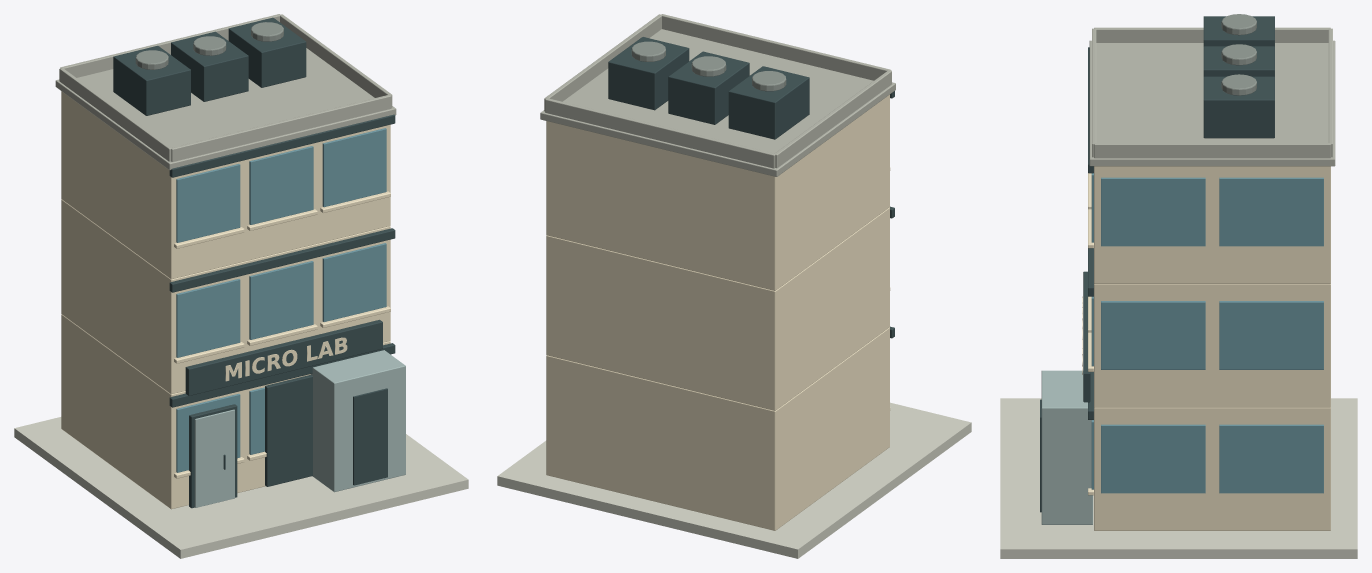
The model's file is medium-2x2-electronics-02.glb.
The picture shows the model from 3 angles, left to right: view 1: azimuth 30°, elevation 25°; view 2: azimuth 150°, elevation 25°; view 3: azimuth 270°, elevation 25°; orthographic projection. The views are drawn at different scales.
Parts seen in each view (by area): view 1: ProductionFloor_03, LotPlinth, ProductionFloor_02, ProductionFloor_01, RoofCap, CleanRoomAirlock, ElectronicsSignBacking, LoadingDoor, FrontWindow_03.002, FrontWindow_02, FrontWindow_02.001, FrontWindow_02.002 (+21 smaller); view 2: ProductionFloor_02, ProductionFloor_01, ProductionFloor_03, LotPlinth, RoofCap, RooftopAirPlant, RoofParapet.001, RooftopAirPlant.001, RooftopAirPlant.002, RoofParapet, RoofParapet.002, RoofParapet.003 (+3 smaller); view 3: RoofCap, LotPlinth, ProductionFloor_01, ProductionFloor_02, ProductionFloor_03, CleanRoomAirlock, SideWindow_01, SideWindow_01.001, SideWindow_03, SideWindow_03.001, SideWindow_02, SideWindow_02.001 (+11 smaller).
Boxes of the visible parts, box(x1,y1,x2,y2) form: ProductionFloor_03: box(61, 91, 390, 279); LotPlinth: box(14, 417, 468, 558); ProductionFloor_02: box(61, 199, 390, 394); ProductionFloor_01: box(61, 314, 390, 509); RoofCap: box(55, 48, 396, 170); CleanRoomAirlock: box(310, 350, 405, 492); ElectronicsSignBacking: box(185, 319, 382, 395); LoadingDoor: box(265, 374, 312, 486); FrontWindow_03.002: box(322, 128, 386, 207); FrontWindow_02: box(176, 279, 240, 357); FrontWindow_02.001: box(249, 261, 313, 339); FrontWindow_02.002: box(322, 243, 386, 321); ProductionFloor_02: box(546, 207, 889, 410); ProductionFloor_01: box(546, 327, 889, 530); ProductionFloor_03: box(546, 94, 889, 290); LotPlinth: box(497, 402, 971, 558); RoofCap: box(540, 29, 895, 176); RooftopAirPlant: box(728, 66, 809, 139); RoofParapet.001: box(545, 98, 775, 168); RooftopAirPlant.001: box(668, 51, 749, 124); RooftopAirPlant.002: box(608, 37, 689, 110); RoofParapet: box(661, 14, 891, 80); RoofParapet.002: box(775, 70, 891, 168); RoofParapet.003: box(544, 14, 661, 111); RoofCap: box(1089, 40, 1335, 166); LotPlinth: box(1000, 398, 1357, 558); ProductionFloor_01: box(1094, 407, 1330, 530); ProductionFloor_02: box(1094, 284, 1330, 407); ProductionFloor_03: box(1094, 166, 1330, 284); CleanRoomAirlock: box(1041, 370, 1092, 524); SideWindow_01: box(1101, 424, 1205, 493); SideWindow_01.001: box(1219, 424, 1323, 493); SideWindow_03: box(1101, 177, 1205, 246); SideWindow_03.001: box(1219, 177, 1323, 246); SideWindow_02: box(1101, 301, 1205, 369); SideWindow_02.001: box(1219, 301, 1323, 369).
Size of the model in its own units: 8 by 10.63 by 8.
